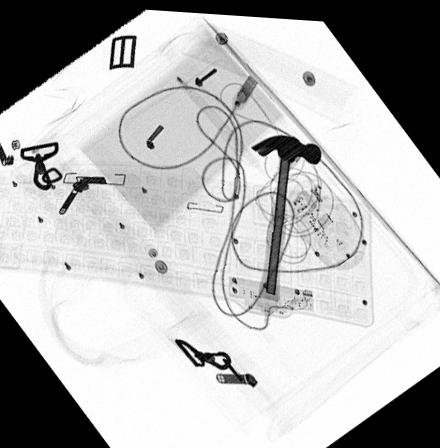Hammer: (249, 130, 321, 297)
